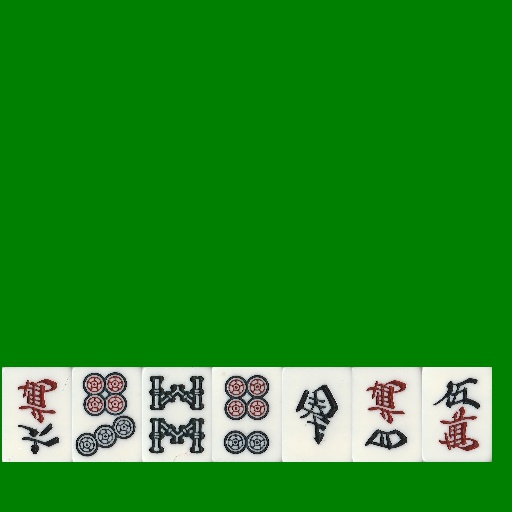4m: (352, 367, 422, 462)
5m: (422, 367, 492, 462)
6m: (2, 367, 72, 462)
6p: (212, 367, 282, 462)
7p: (72, 367, 142, 462)
8s: (142, 367, 212, 462)
south: (282, 367, 352, 462)
